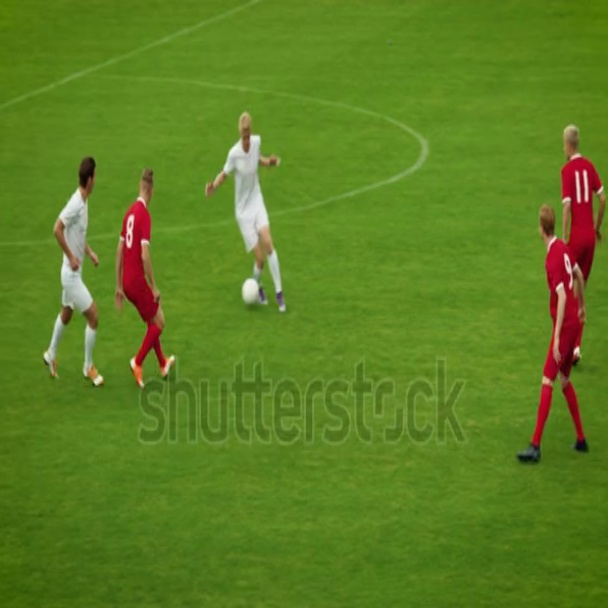ball: (244, 274, 262, 310)
